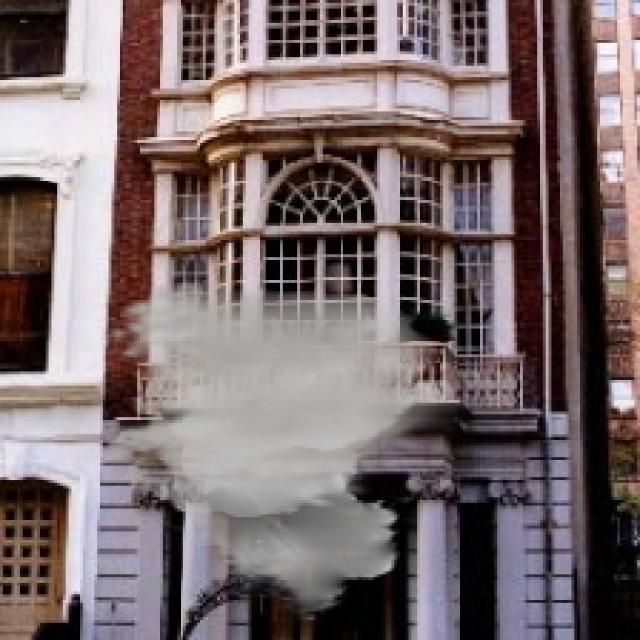smoke: (103, 280, 480, 623)
